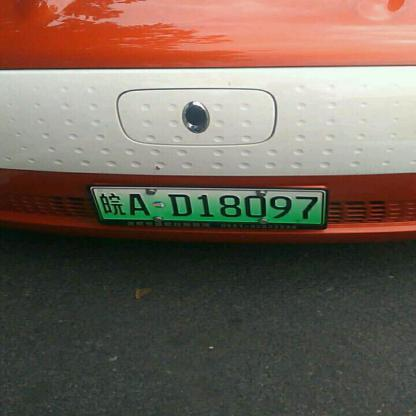lp: (93, 188, 323, 223)
